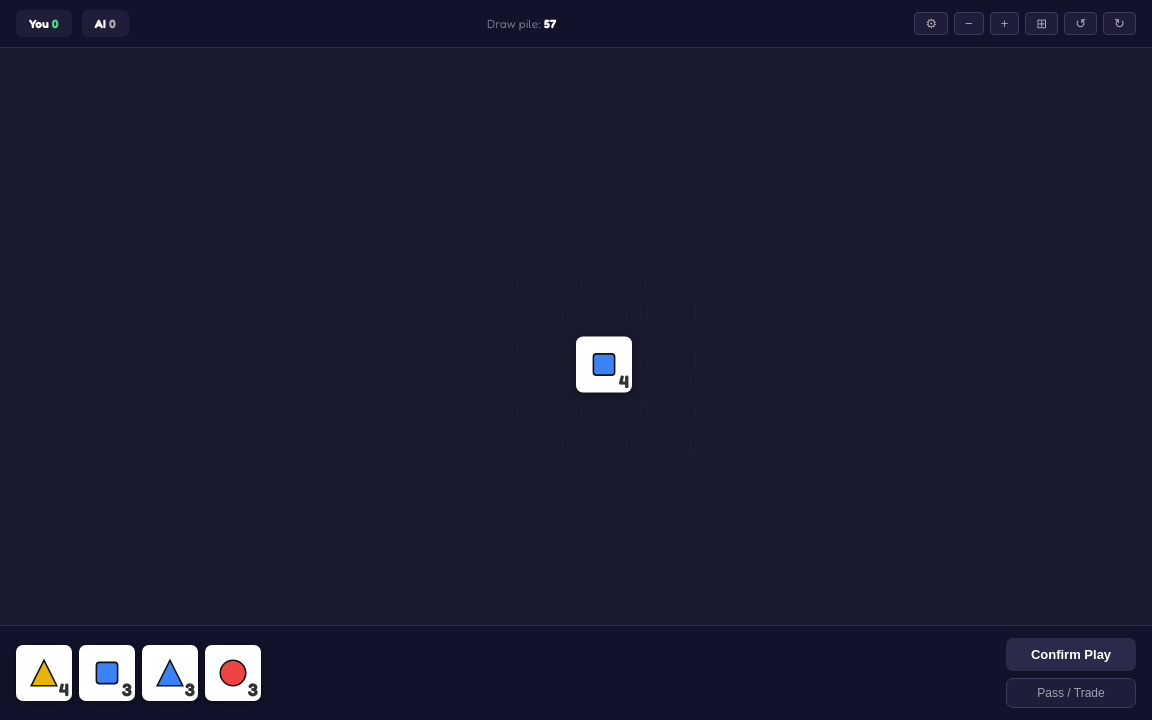
Test: Pass / Trade button opens modal
The width and height of the screenshot is (1152, 720).
Click the button "Pass / Trade".
click(1071, 693)  # box [1006,678,1136,708]
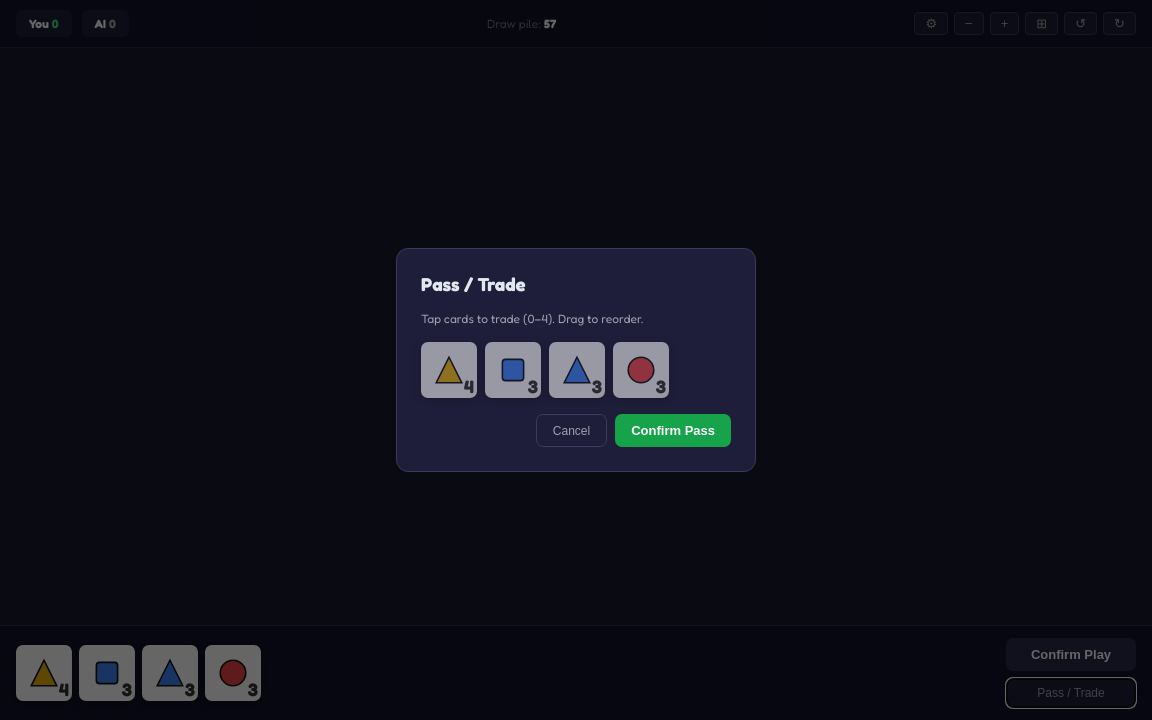
Check: the button "Confirm Pass" is shown, box [615,414,731,447]
